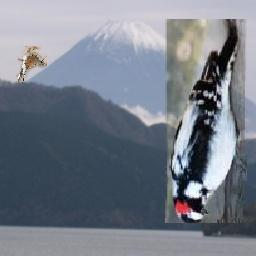Cuckoo: (17, 47, 48, 84)
Woodpecker: (165, 19, 247, 223)
